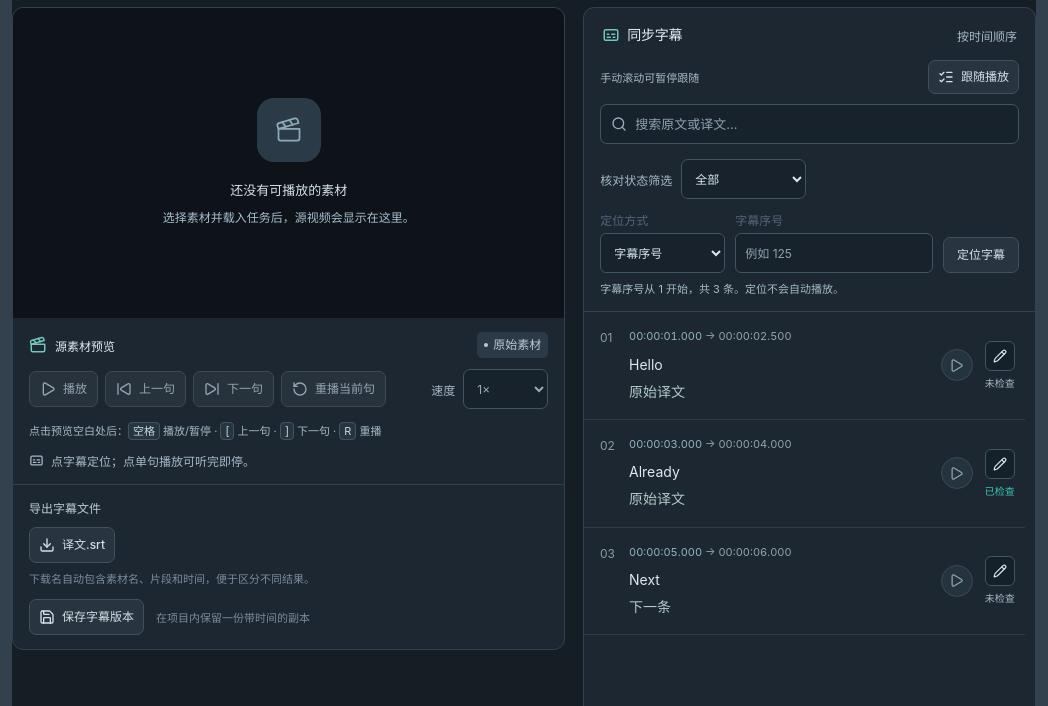
连续人工核对 › does not check the next cue when a double click receives an immediate first acknowledgement
Click the button named "编辑第 1 句" at point(1000, 356), box [985,340,1015,370]
(page scrolled)
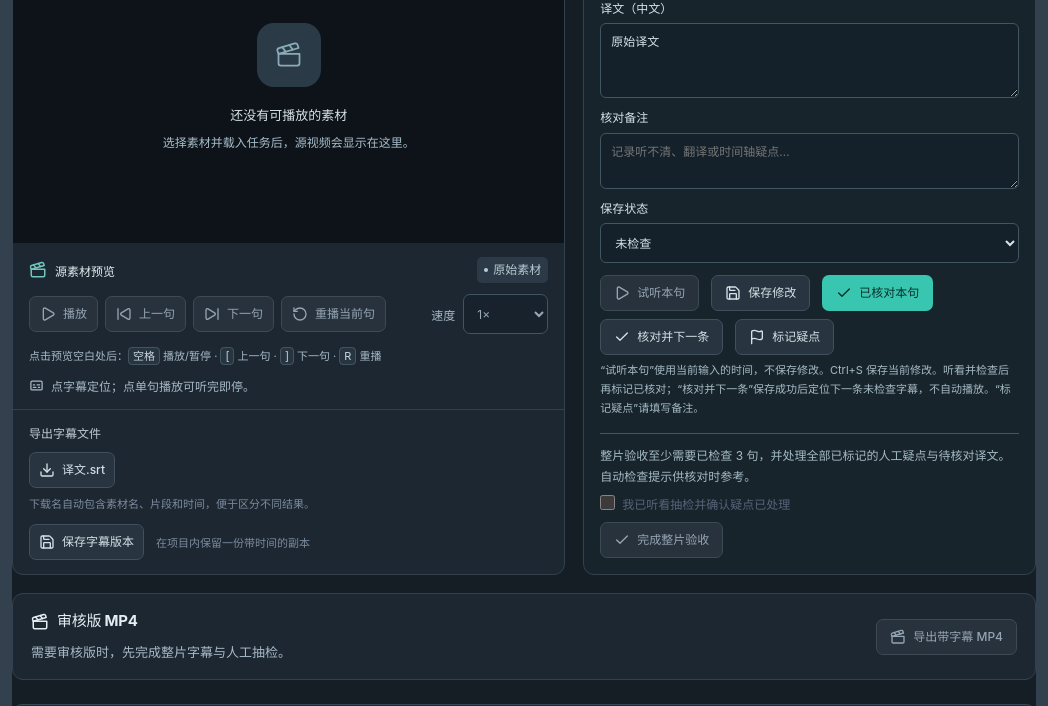
Double-click the button "核对并下一条" at point(662, 337), box [600,319,723,355]
(page scrolled)
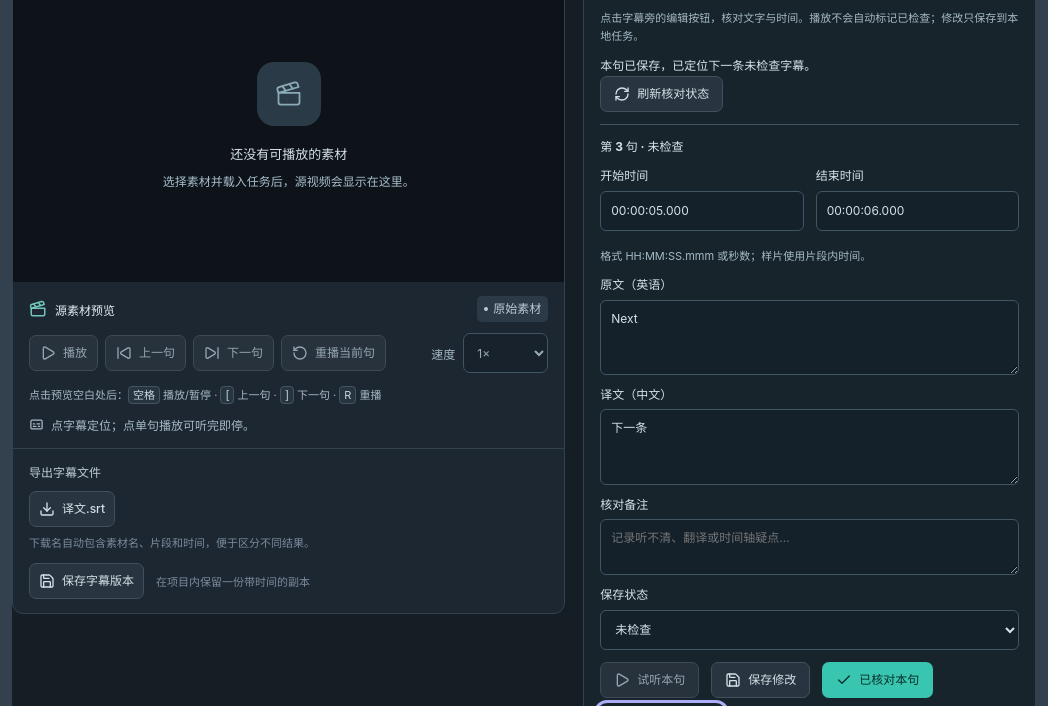
Now the text box labelled "原文（英语）" holds "Next", box [600,300,1019,375]
